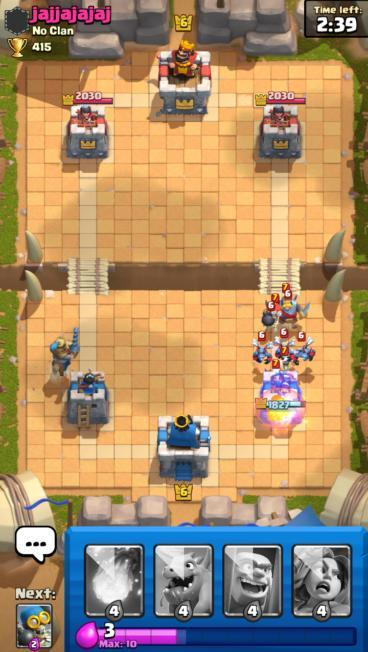ally_prince: (48, 324, 83, 382)
enemy_bomber: (259, 298, 283, 328)
enemy_knight: (272, 289, 309, 328)
enemy_minion: (288, 330, 317, 366), (251, 330, 274, 365), (272, 328, 294, 358)
enemy_skeleton: (277, 280, 298, 314), (276, 345, 295, 376), (266, 291, 283, 320), (269, 357, 284, 379)
